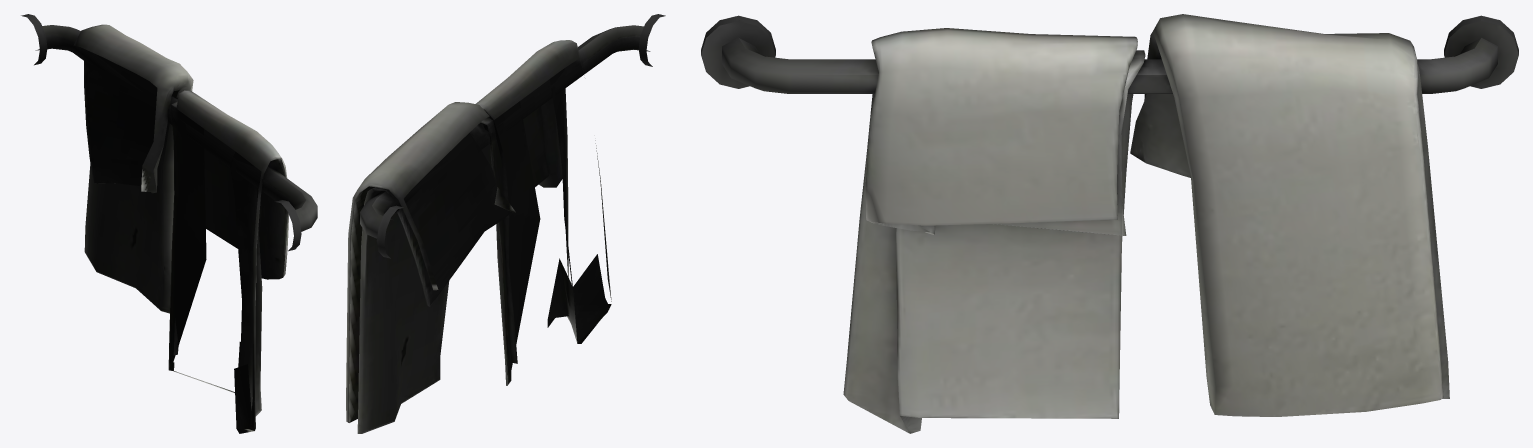
3 views of the same model, side by side, from view 1: azimuth 30°, elevation 25°; view 2: azimuth 150°, elevation 25°; view 3: azimuth 270°, elevation 25° (orthographic). The views are drawn at different scales.
Parts seen in each view (by area): view 1: body0_model0_lod0_mesh0; view 2: body0_model0_lod0_mesh0; view 3: body0_model0_lod0_mesh0.
Boxes of the visible parts, x1,y1,x2,y2 form: body0_model0_lod0_mesh0: (21,14,317,433); body0_model0_lod0_mesh0: (346,14,665,433); body0_model0_lod0_mesh0: (701,14,1518,433).
Size of the model in its own units: 10.7 by 37.01 by 63.85.
Materials: 1 (1 with a texture image).
